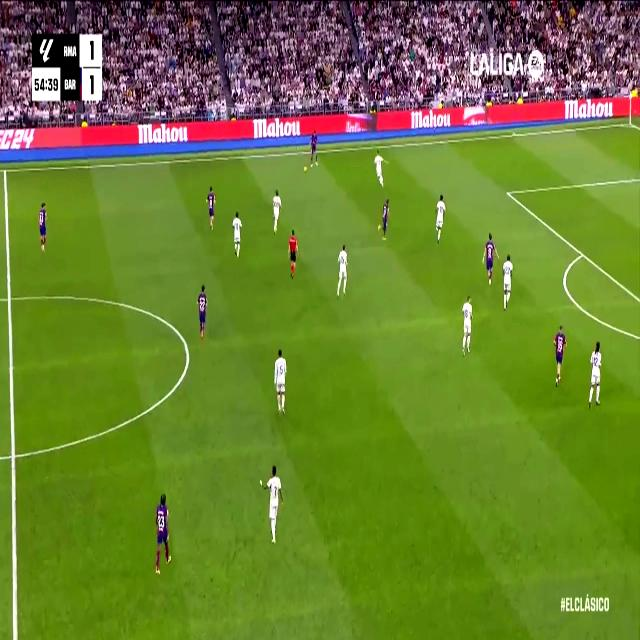bigarea_top_inner: (504, 182, 512, 201)
corner: (624, 116, 635, 128)
halfcircle_bottom: (5, 437, 21, 473)
halfcircle_top: (3, 283, 16, 313)
midline_top_intersection: (2, 164, 8, 178)
top_arc_area_intersection: (578, 244, 587, 262)
